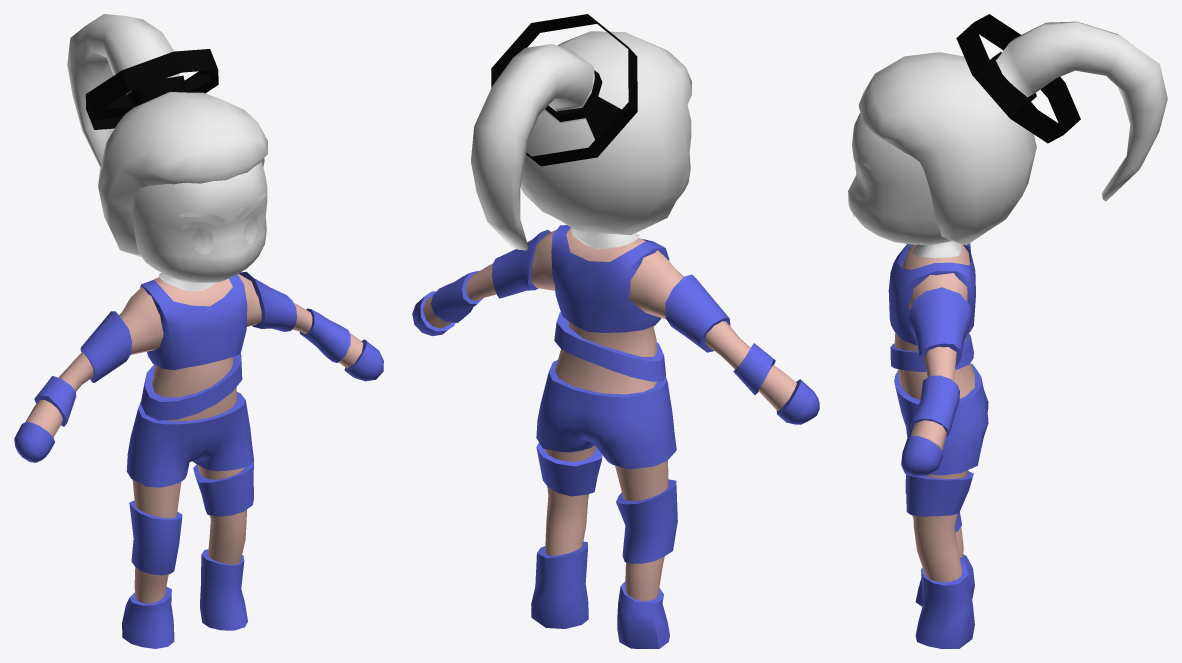
File: Npc_02.fbx
3 views of the same model, side by side, from view 1: azimuth 30°, elevation 25°; view 2: azimuth 150°, elevation 25°; view 3: azimuth 270°, elevation 25° (orthographic). The views are drawn at different scales.
Visible parts, largest first — view 1: Cube.022, Hair2, Body, Head; view 2: Cube.022, Hair2, Body, Head; view 3: Hair2, Cube.022, Head, Body.
Part boxes in pixels (x1=…): Cube.022: x1=14, y1=271, x2=383, y2=648; Hair2: x1=67, y1=14, x2=267, y2=257; Body: x1=25, y1=273, x2=363, y2=603; Head: x1=133, y1=161, x2=267, y2=291; Cube.022: x1=412, y1=225, x2=819, y2=648; Hair2: x1=471, y1=14, x2=691, y2=250; Body: x1=423, y1=227, x2=796, y2=600; Head: x1=571, y1=105, x2=691, y2=248; Hair2: x1=858, y1=14, x2=1167, y2=245; Cube.022: x1=888, y1=243, x2=988, y2=648; Head: x1=848, y1=113, x2=961, y2=258; Body: x1=894, y1=244, x2=974, y2=581.
Bounding box in the file's own units: 277 × 413 × 200.
